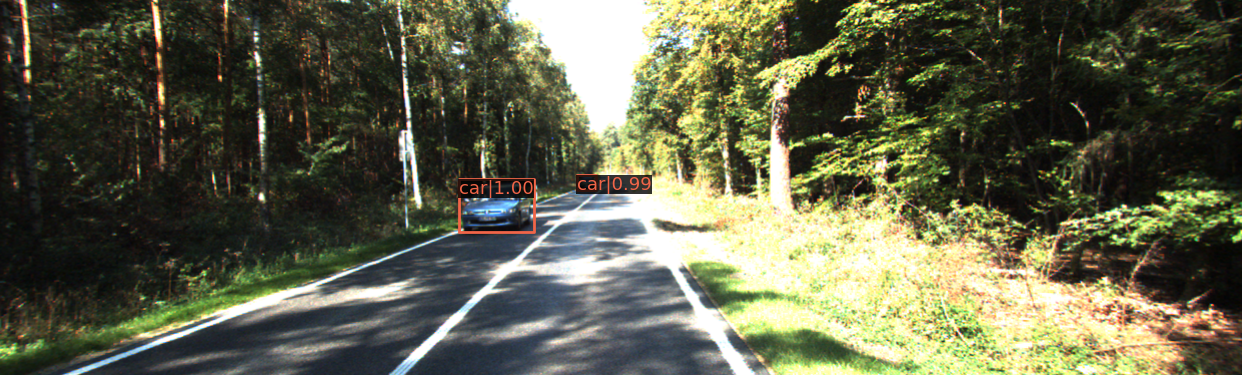car: (460, 182, 536, 235)
